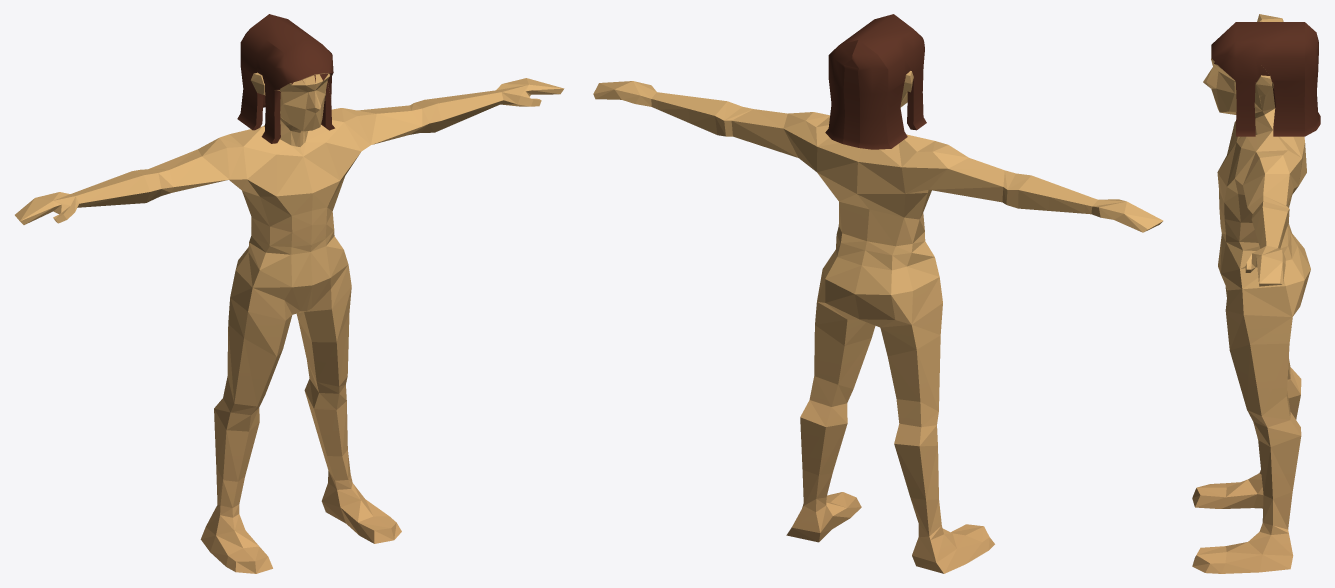
The model's file is Dead.fbx.
The picture shows the model from 3 angles, left to right: view 1: azimuth 30°, elevation 25°; view 2: azimuth 150°, elevation 25°; view 3: azimuth 270°, elevation 25°; orthographic projection. The views are drawn at different scales.
Parts seen in each view (by area): view 1: LowMan; view 2: LowMan; view 3: LowMan.
Part boxes in pixels (left/top/right/bottom): LowMan: left=15, top=14, right=564, bottom=573; LowMan: left=593, top=14, right=1163, bottom=573; LowMan: left=1192, top=14, right=1320, bottom=573.
Bounding box in the file's own units: 175 × 155 × 35.26.
1 material, 1 textured.
